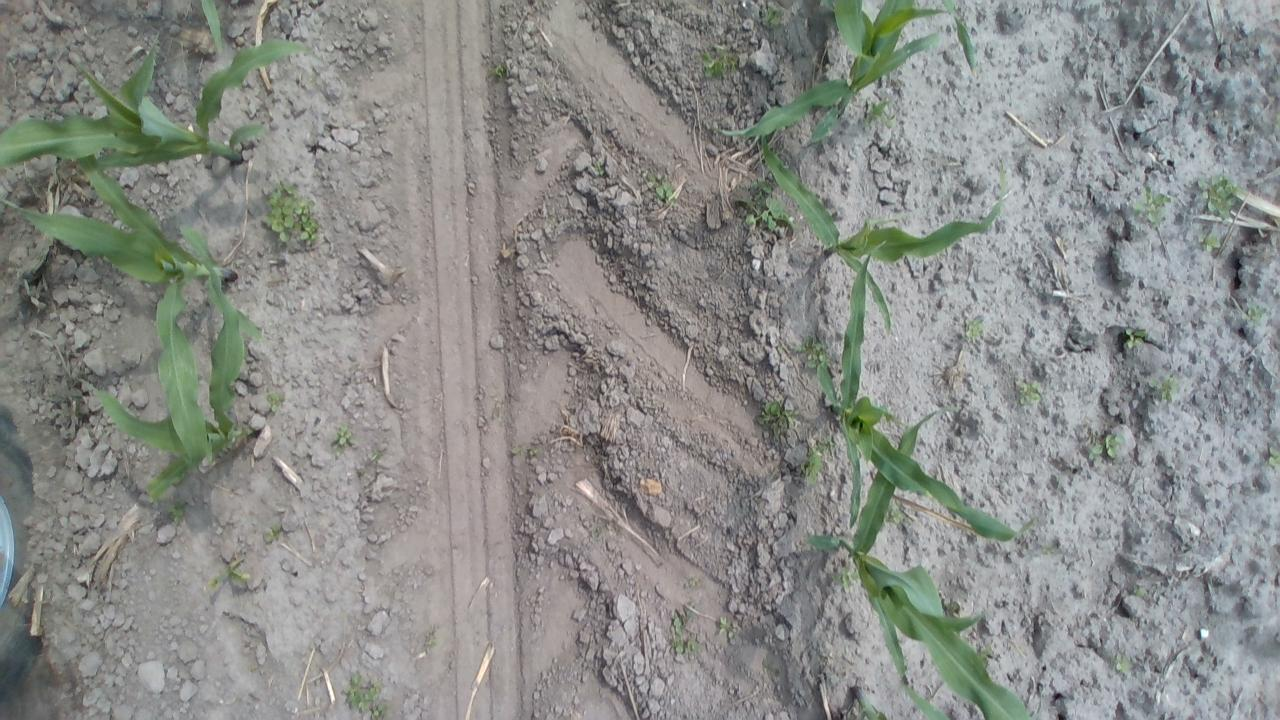Maize: (0, 120, 272, 483), (802, 398, 1056, 720), (810, 236, 1039, 553), (753, 127, 1018, 333), (0, 32, 319, 171), (81, 266, 256, 506), (706, 2, 984, 147), (834, 678, 966, 718), (192, 0, 234, 53)
Weeds: (260, 178, 326, 248), (734, 174, 796, 232), (342, 673, 394, 719), (1196, 173, 1245, 221), (666, 603, 704, 661), (204, 554, 252, 592), (799, 435, 835, 485), (791, 332, 835, 372), (1133, 184, 1171, 228), (756, 401, 800, 438), (862, 97, 899, 133), (1146, 371, 1182, 407), (701, 43, 736, 79), (1086, 430, 1123, 464), (827, 558, 863, 592), (1011, 378, 1043, 408), (331, 422, 358, 456), (1122, 324, 1150, 353), (420, 626, 448, 654), (713, 614, 741, 642), (757, 4, 787, 30), (961, 317, 987, 344), (1242, 300, 1270, 324), (1110, 648, 1134, 676), (883, 498, 907, 525), (260, 388, 284, 414), (166, 496, 188, 524), (654, 180, 678, 205), (486, 57, 511, 81), (261, 519, 284, 545), (1198, 232, 1222, 256), (940, 595, 961, 620), (510, 442, 540, 456), (974, 646, 992, 669), (1264, 443, 1278, 472), (586, 156, 606, 176), (1129, 583, 1150, 602), (684, 575, 704, 592), (369, 447, 384, 466), (1038, 546, 1054, 554), (1274, 112, 1280, 132), (762, 659, 774, 669), (646, 172, 657, 182), (492, 410, 500, 418)
